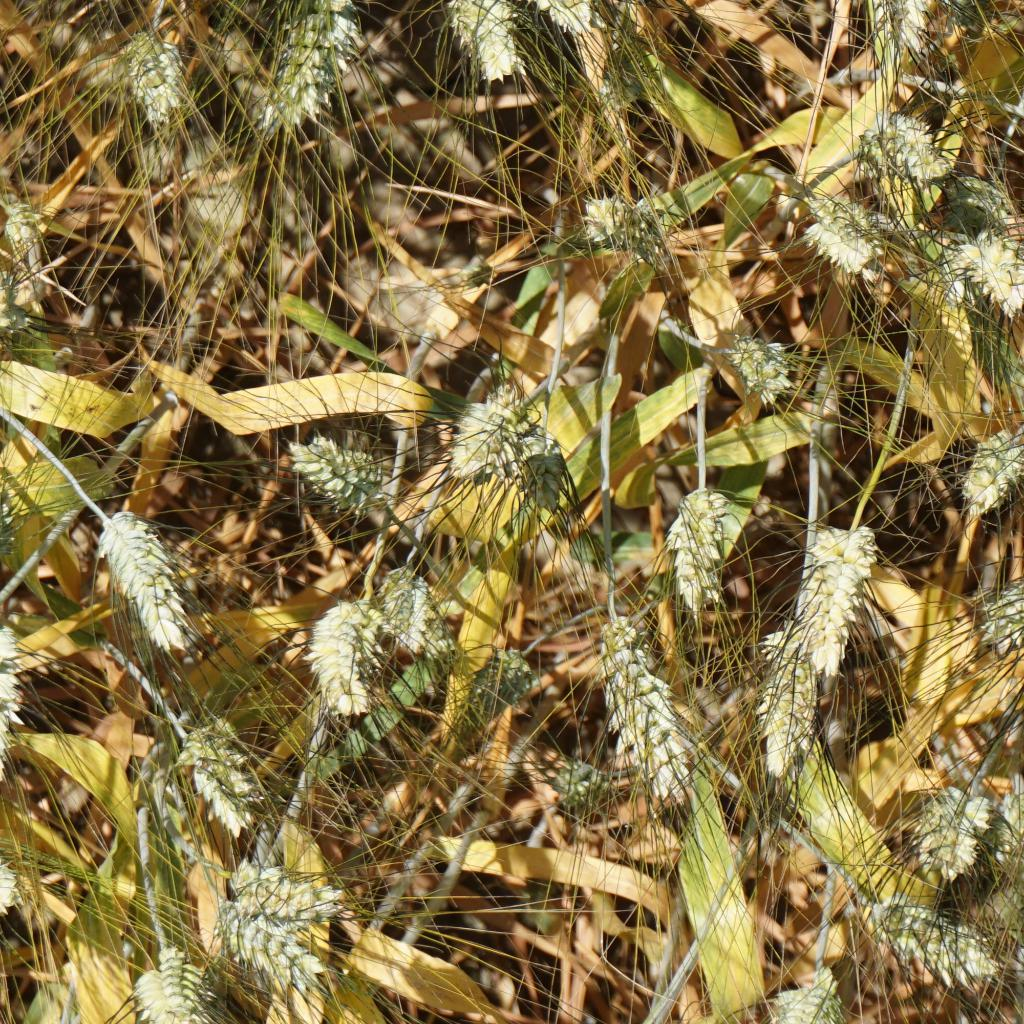0-0: (588, 604, 691, 779), (102, 507, 206, 651), (258, 0, 352, 137), (848, 886, 994, 972), (204, 900, 334, 992), (801, 521, 868, 669), (305, 584, 377, 714), (360, 553, 446, 661), (283, 423, 384, 514), (653, 474, 730, 592), (758, 626, 819, 770), (236, 848, 354, 921), (563, 173, 689, 240), (807, 190, 896, 281), (502, 407, 574, 516), (864, 94, 939, 198), (179, 716, 256, 815), (951, 415, 1024, 516), (451, 630, 529, 724), (134, 943, 222, 1024), (435, 0, 516, 84), (0, 592, 33, 797), (913, 770, 984, 864), (942, 236, 1024, 313), (842, 0, 937, 65), (758, 947, 846, 1017), (456, 390, 519, 486), (500, 0, 610, 53), (120, 29, 179, 118), (547, 738, 614, 813), (0, 178, 57, 256), (726, 326, 781, 405), (950, 169, 1002, 237), (0, 472, 31, 574), (976, 570, 1016, 649), (952, 0, 999, 49), (996, 785, 1024, 860), (0, 815, 21, 913), (0, 262, 23, 346)
